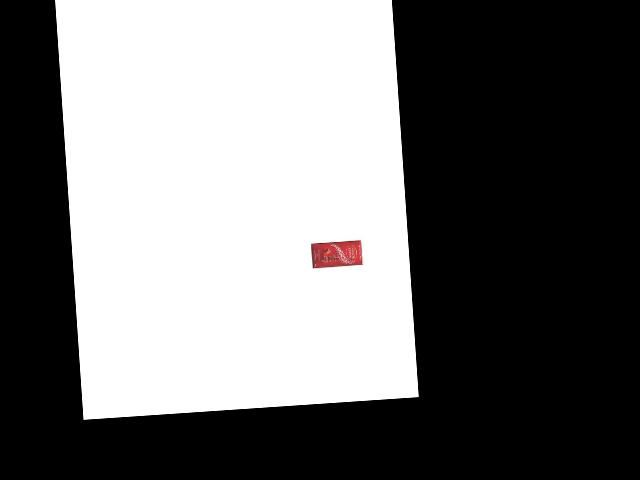chocolate: (307, 239, 364, 270)
